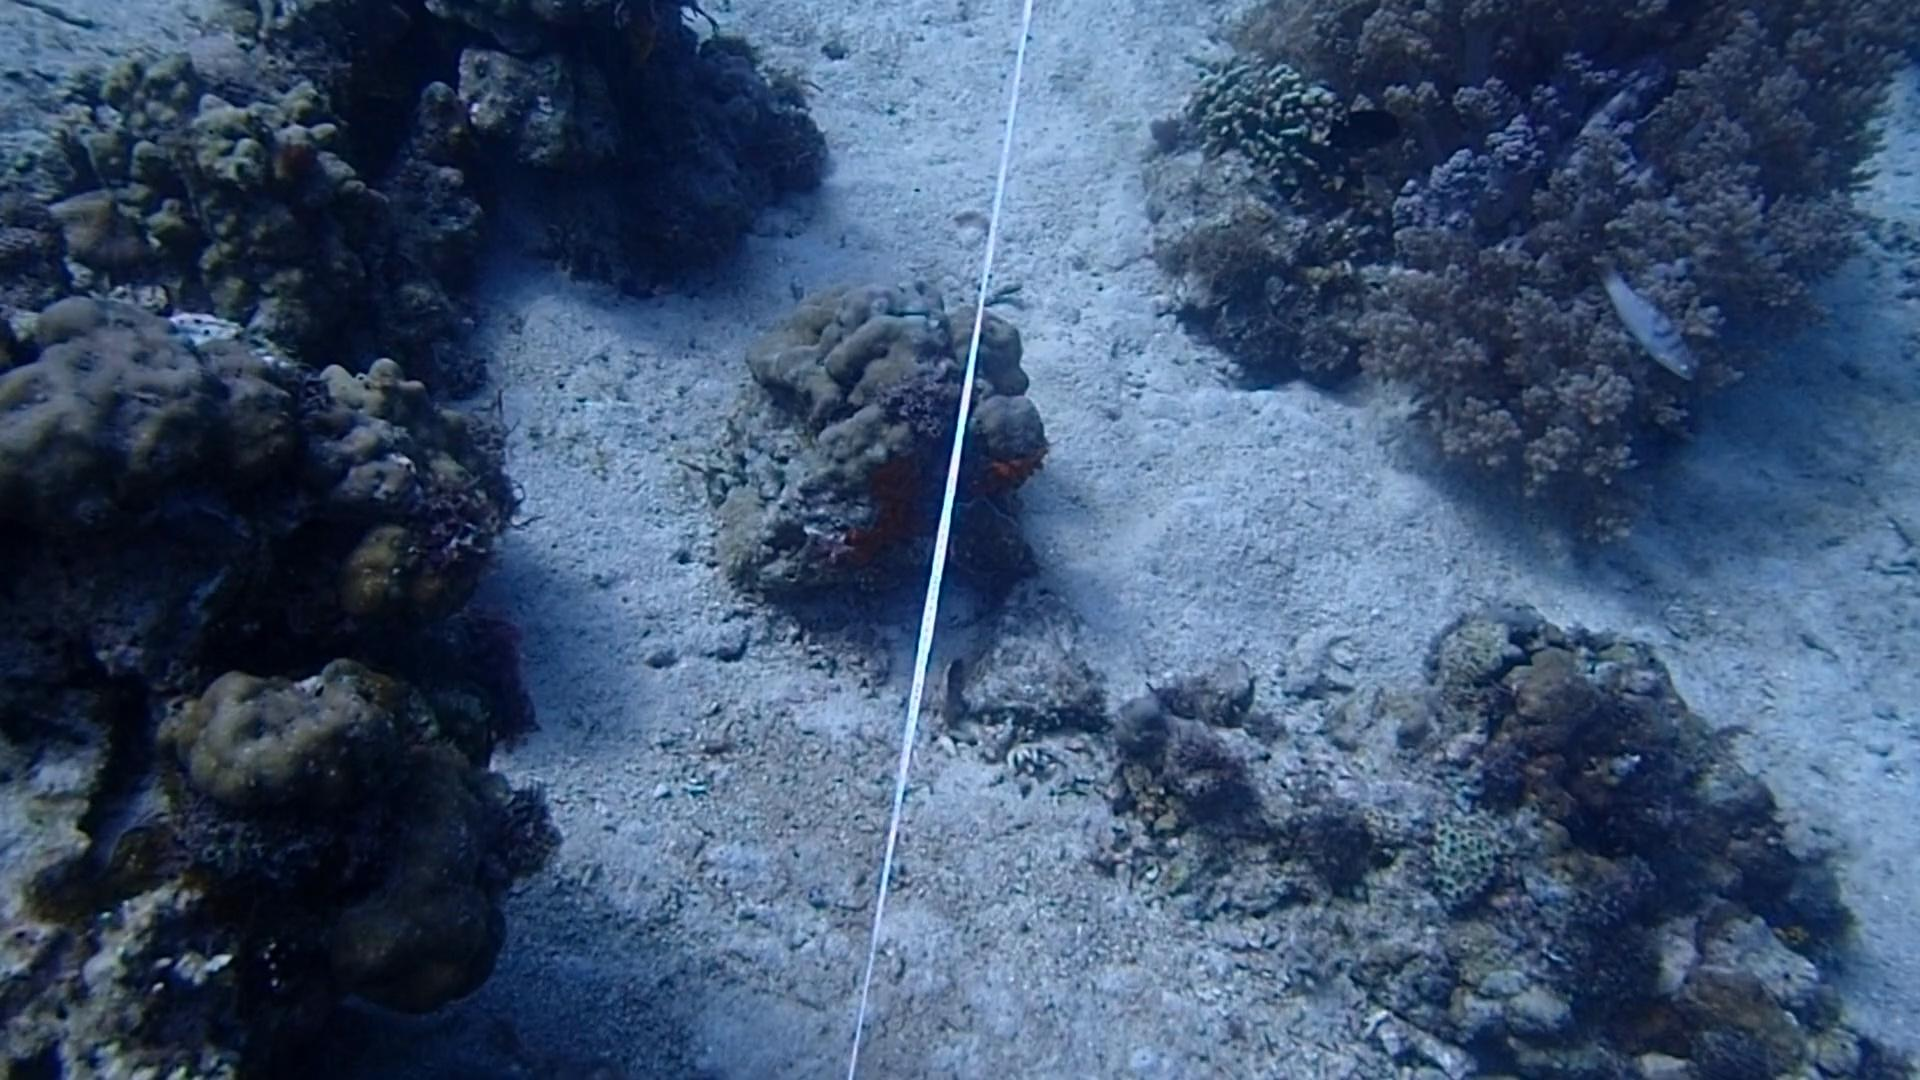Dark Fish: (1325, 92, 1404, 166)
Light Fish w Back Stripes: (1580, 247, 1704, 381)
